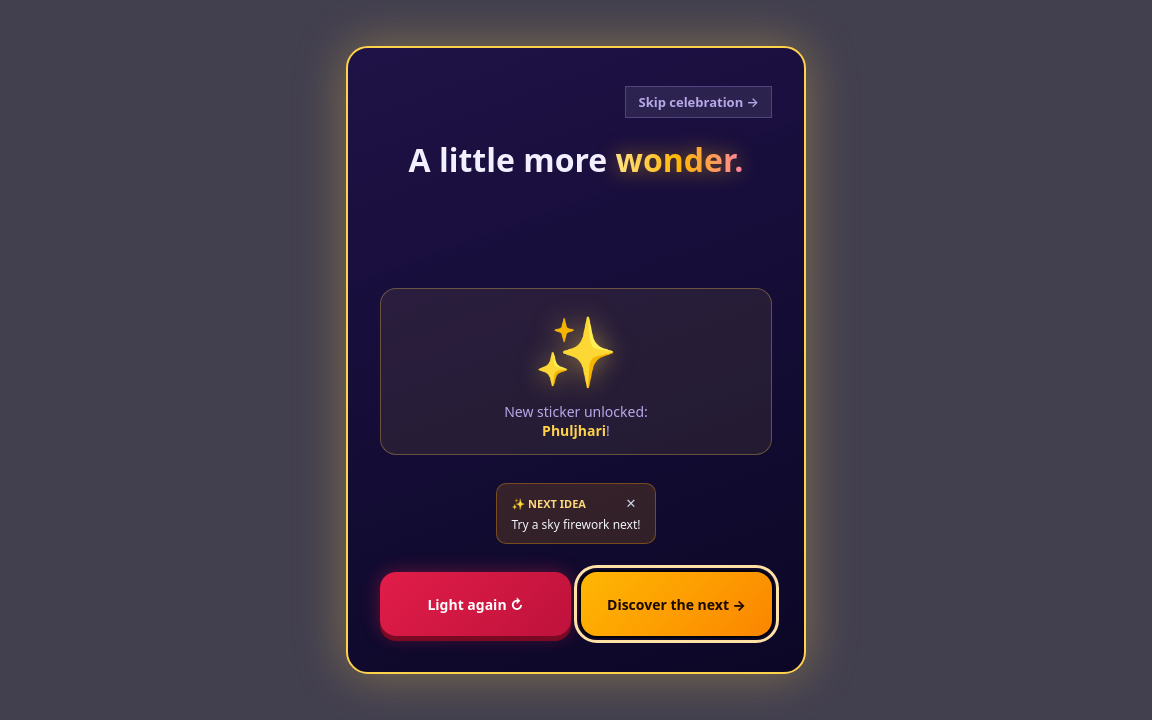
Scenario: DIW-032, DIW-033, DIW-034 — Discovery Album, Gentle Goals, and Result Summary › DIW-034: Polished Result and Celebration Summary › renders stars earned, next suggestion, and dismisses suggestion on click
Expected: the text "New sticker unlocked:Phuljhari!" is shown, [504,402,648,440]
Expected: the text "Try a sky firework next!" is shown, [512,516,640,533]
Dismiss suggestion
Click the button named "Dismiss suggestion" at (631, 503), box [622,494,640,512]
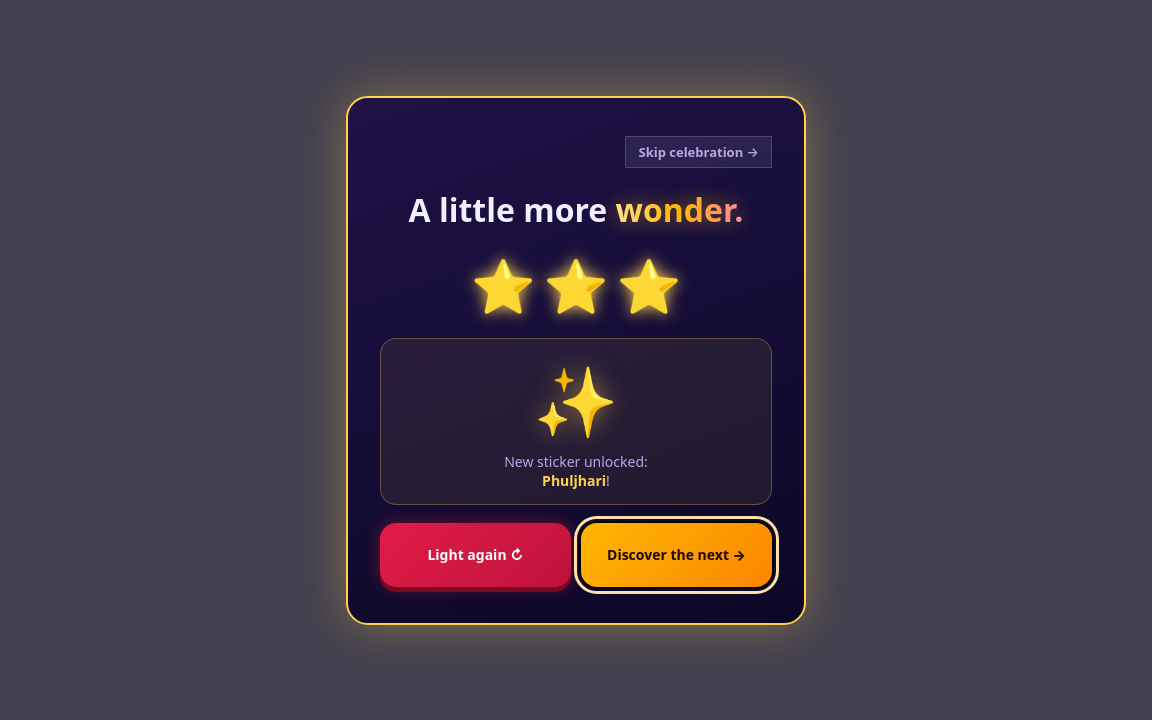
Now the text "Try a sky firework next!" is gone
